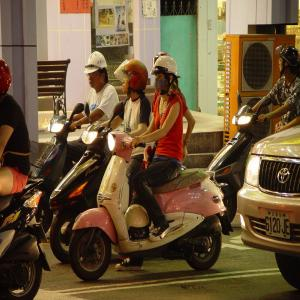Vehicle-registration-plate: (266, 209, 290, 250)
